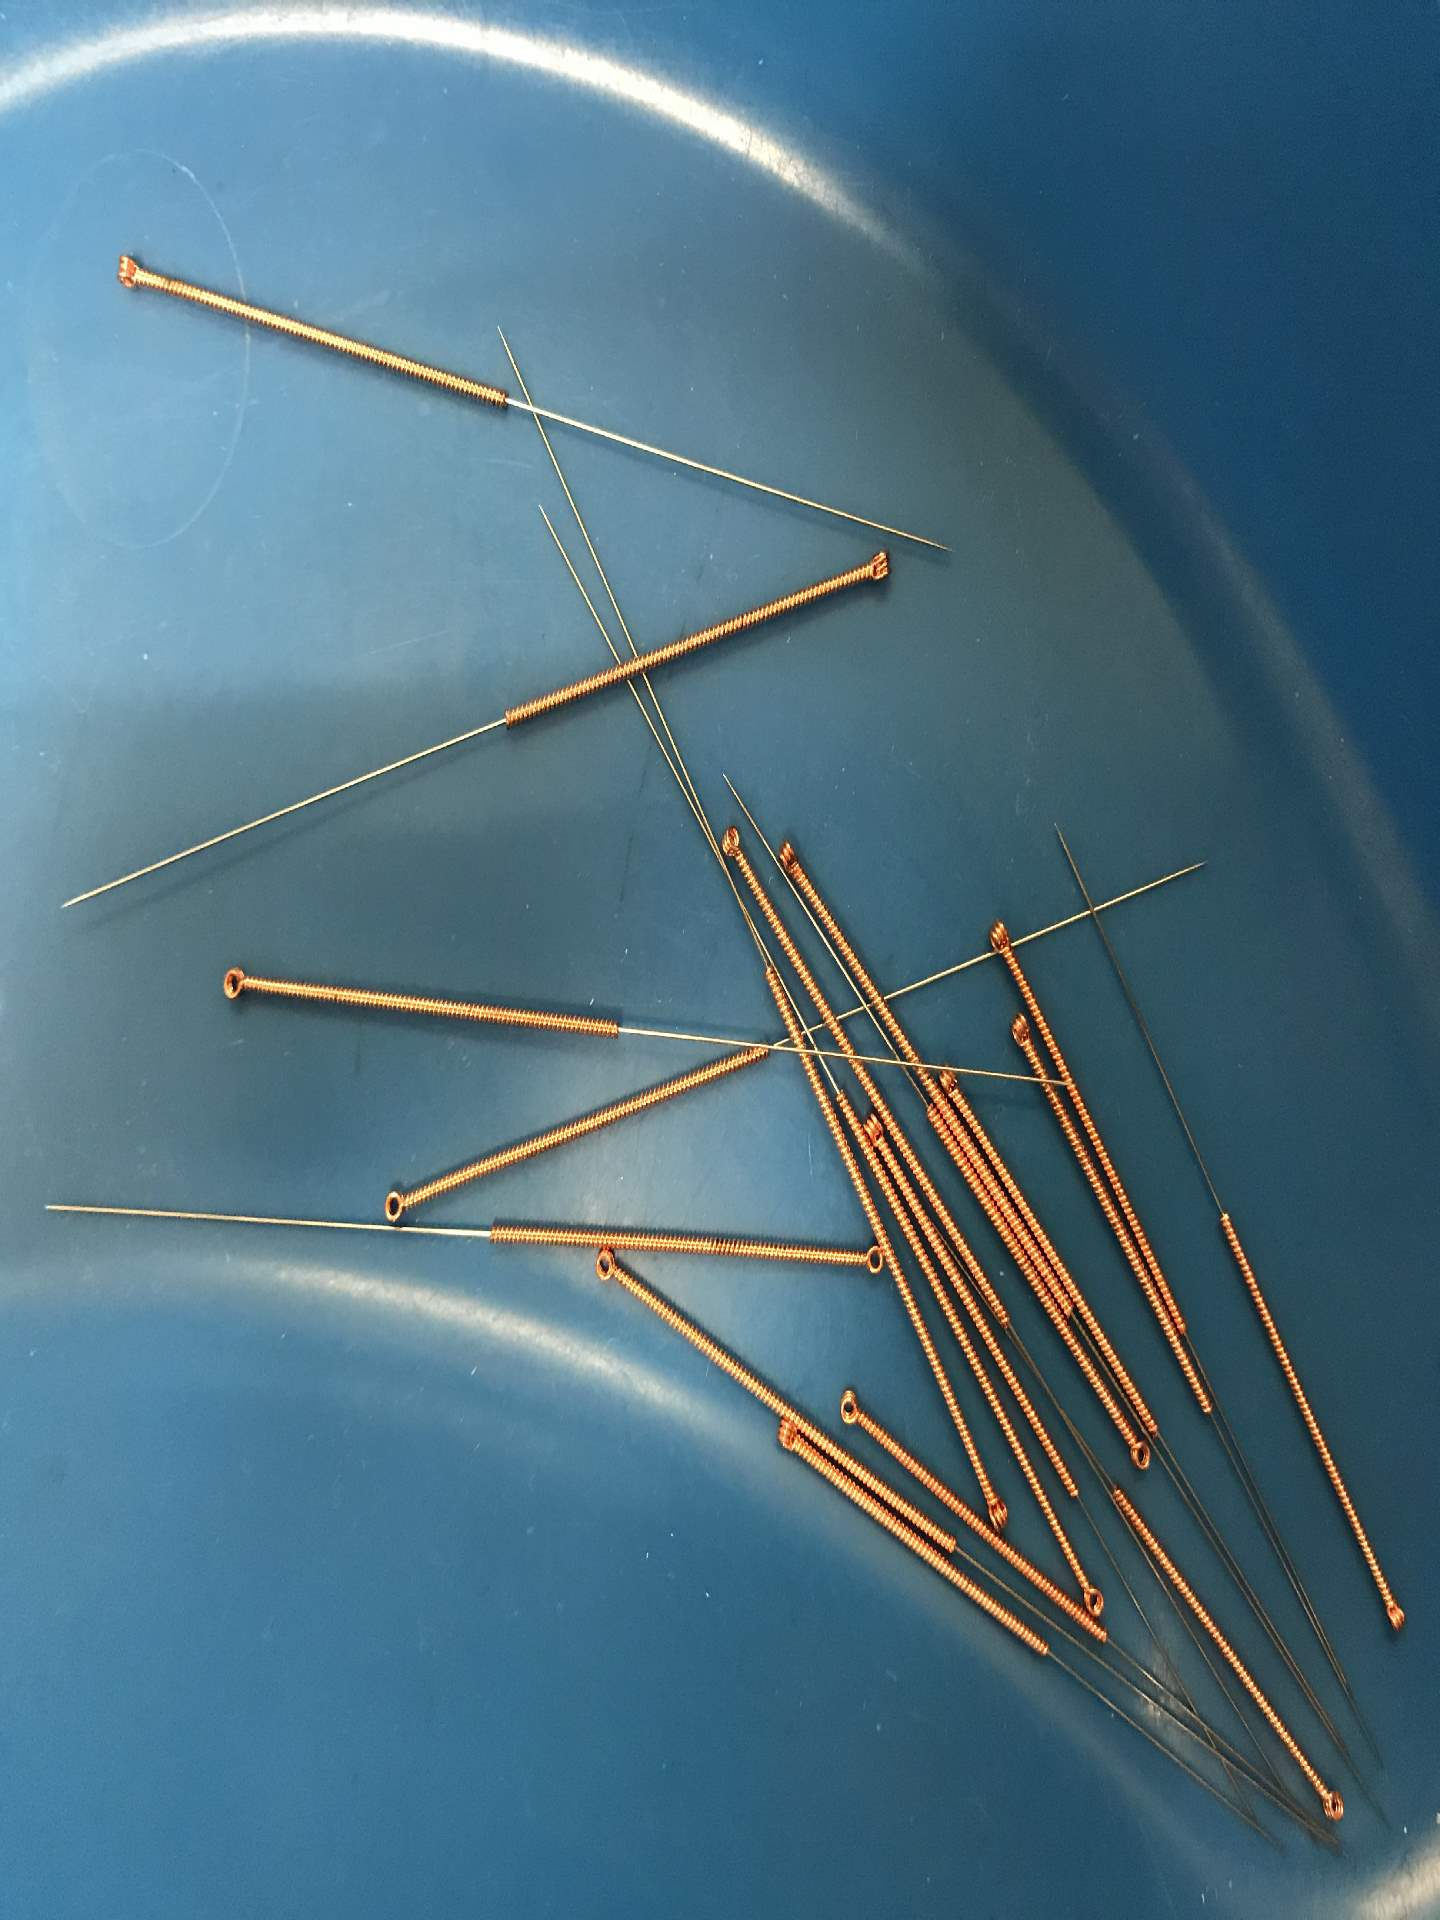needle: (209, 957, 262, 1010), (101, 246, 153, 299), (1372, 1584, 1414, 1643), (852, 543, 898, 593), (979, 913, 1018, 968), (582, 1243, 629, 1288), (767, 830, 808, 881), (712, 816, 750, 869), (1313, 1776, 1351, 1829), (372, 1181, 417, 1225), (829, 1385, 871, 1432), (1000, 1008, 1035, 1060), (1078, 1569, 1113, 1619), (849, 1240, 886, 1282), (1119, 1435, 1156, 1477), (985, 1488, 1016, 1534), (765, 1417, 802, 1457), (861, 1108, 888, 1147), (936, 1061, 964, 1098)
